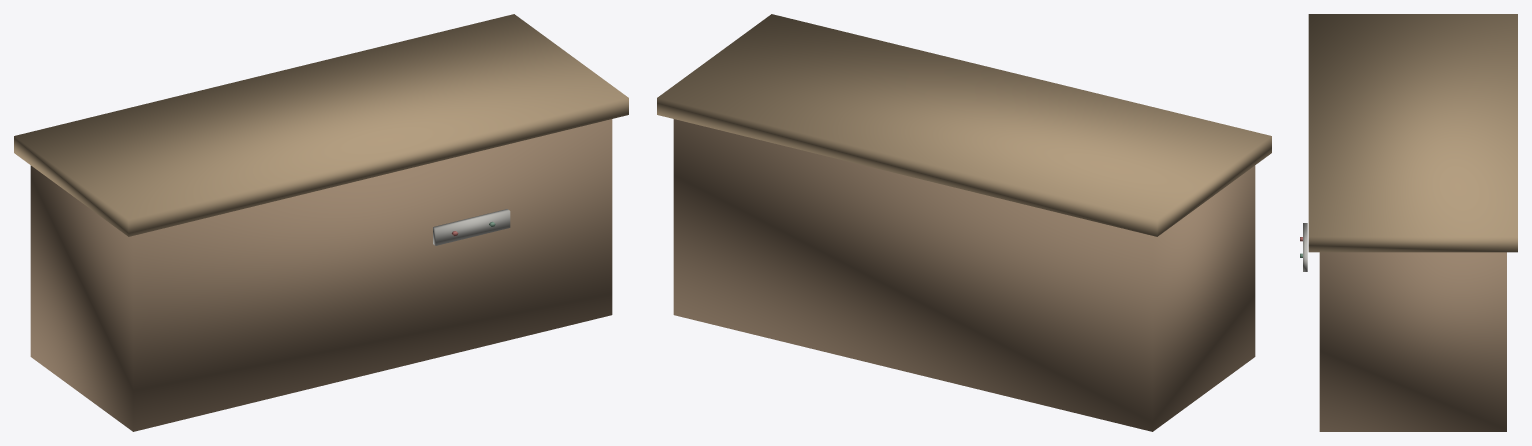
File: florist_wrapping_counter__squat.glb
3 views of the same model, side by side, from view 1: azimuth 30°, elevation 25°; view 2: azimuth 150°, elevation 25°; view 3: azimuth 270°, elevation 25° (orthographic). The views are drawn at different scales.
Parts seen in each view (by area): view 1: world; view 2: world; view 3: world.
Boxes of the visible parts, x1,y1,x2,y2 form: world: (14, 14, 628, 431); world: (657, 14, 1271, 431); world: (1300, 14, 1517, 431).
Size of the model in its own units: 2.07 by 0.8652 by 0.8543.
